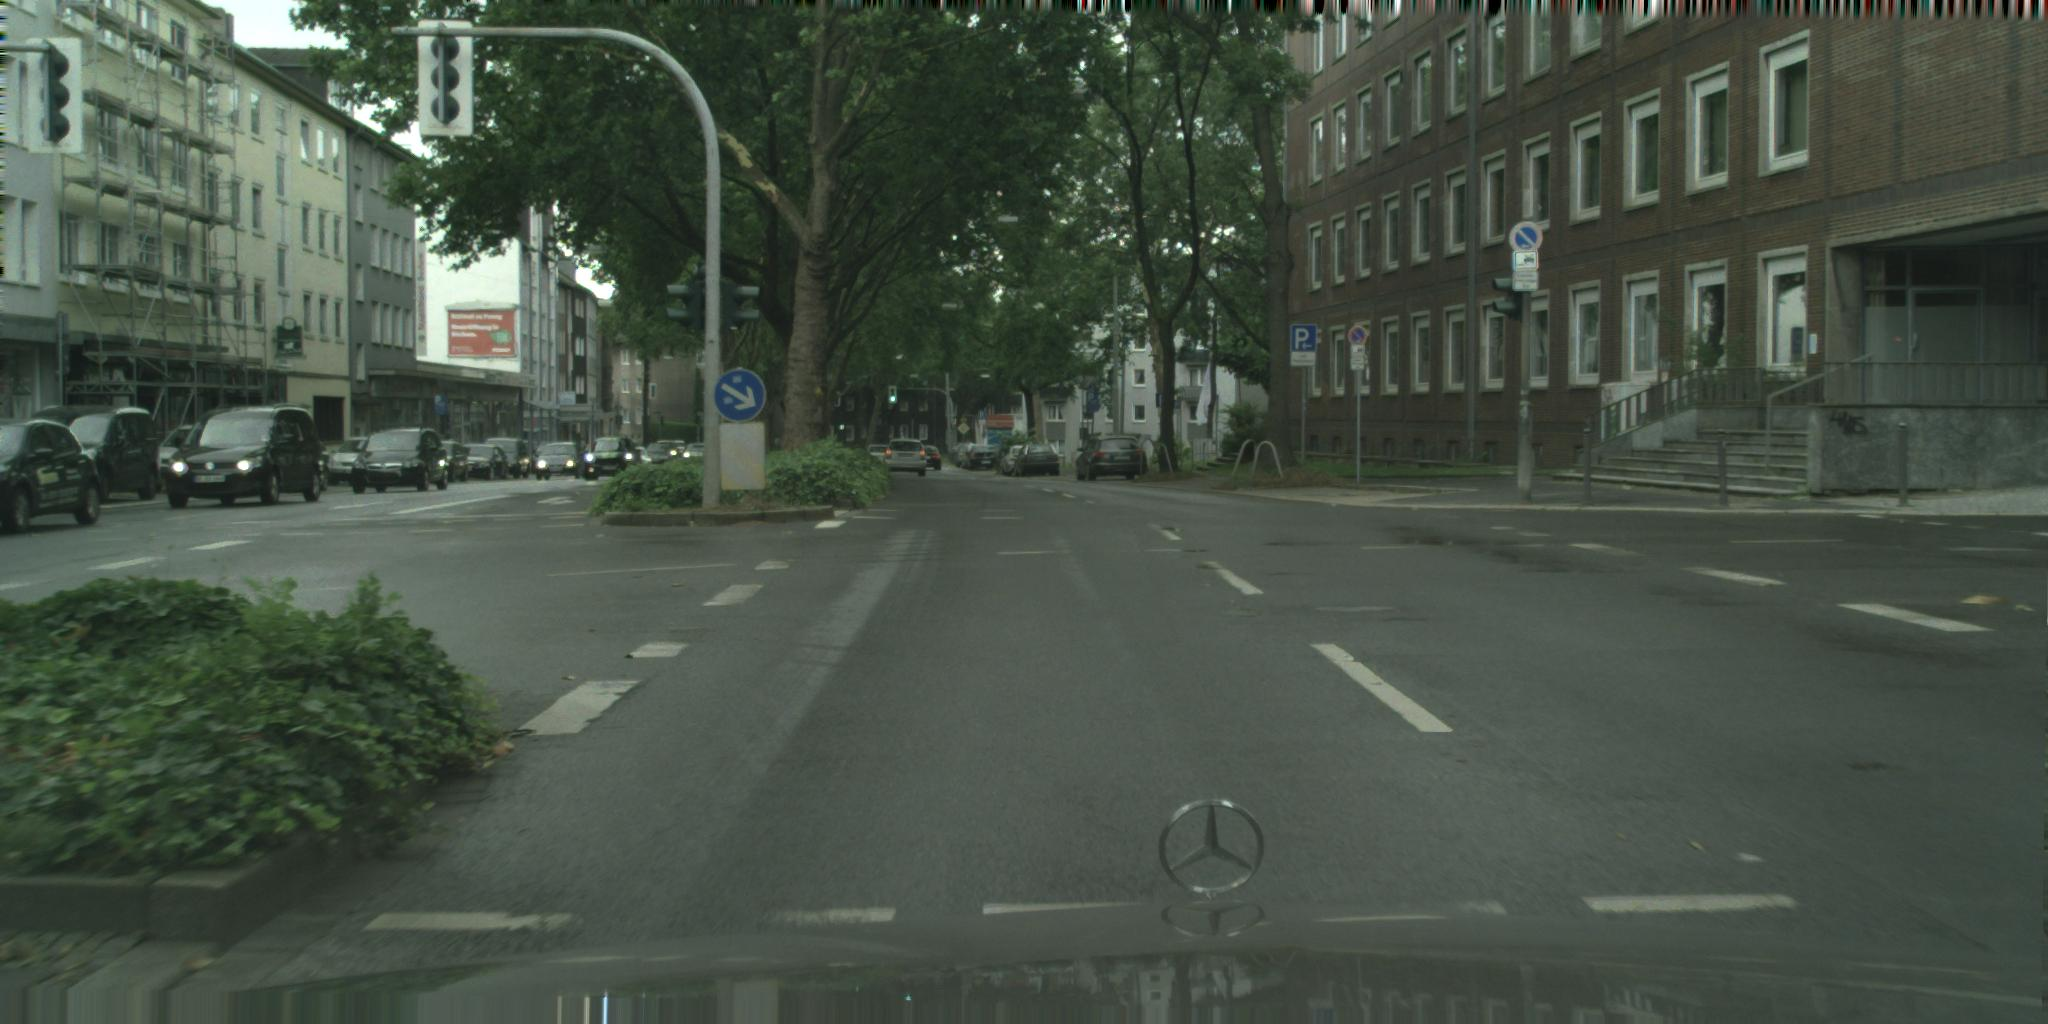car: (165, 404, 327, 509), (26, 404, 159, 503), (1, 419, 101, 534), (353, 428, 451, 494), (152, 424, 216, 494), (1076, 436, 1149, 481), (330, 438, 381, 487), (584, 439, 643, 481), (451, 444, 511, 481), (481, 438, 530, 479), (536, 443, 583, 481), (882, 440, 927, 477), (430, 441, 469, 482), (1014, 444, 1061, 477), (1000, 445, 1034, 477), (967, 445, 999, 472), (910, 447, 942, 472), (865, 444, 895, 469), (639, 444, 671, 466), (654, 441, 682, 468), (964, 444, 990, 469), (683, 444, 711, 465), (627, 448, 652, 468), (669, 441, 688, 461)
